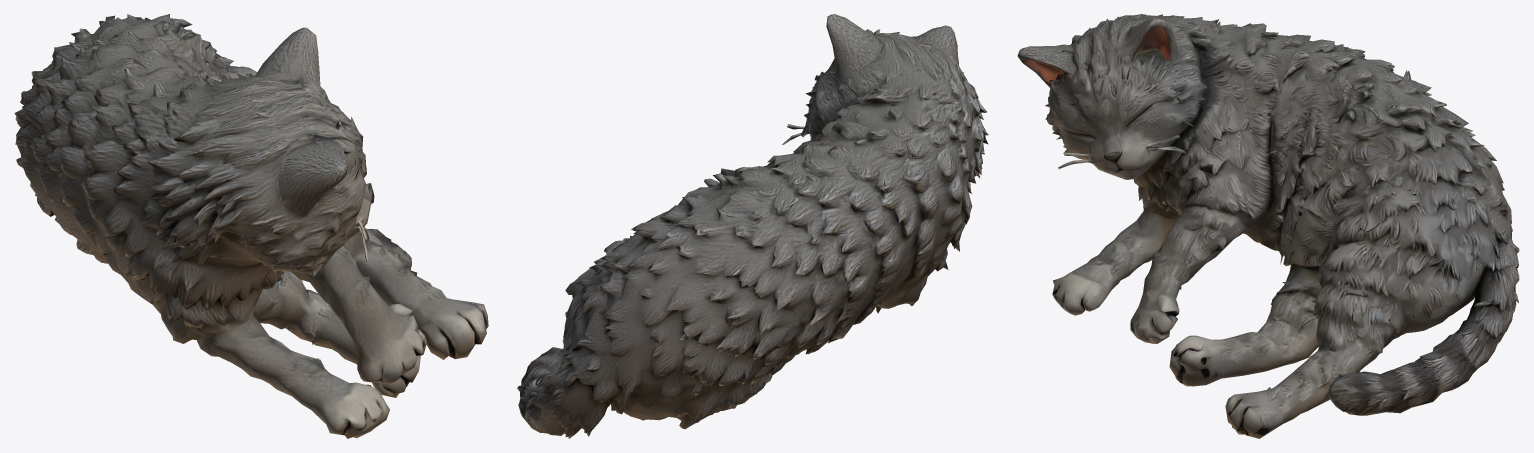
3 renders of one model, left to right at view 1: azimuth 30°, elevation 25°; view 2: azimuth 150°, elevation 25°; view 3: azimuth 270°, elevation 25°, orthographic. The views are drawn at different scales.
Visible parts, largest first — view 1: tripo_node_39859ef7-532c-43b6-b7e2-87b17818af63; view 2: tripo_node_39859ef7-532c-43b6-b7e2-87b17818af63; view 3: tripo_node_39859ef7-532c-43b6-b7e2-87b17818af63.
Part boxes in pixels (box(x1,y1,x2,y2)): tripo_node_39859ef7-532c-43b6-b7e2-87b17818af63: box(14, 14, 488, 438); tripo_node_39859ef7-532c-43b6-b7e2-87b17818af63: box(517, 14, 988, 438); tripo_node_39859ef7-532c-43b6-b7e2-87b17818af63: box(1017, 14, 1519, 438).
Size of the model in its own units: 0.7835 by 0.7366 by 1.
1 material, 1 textured.
